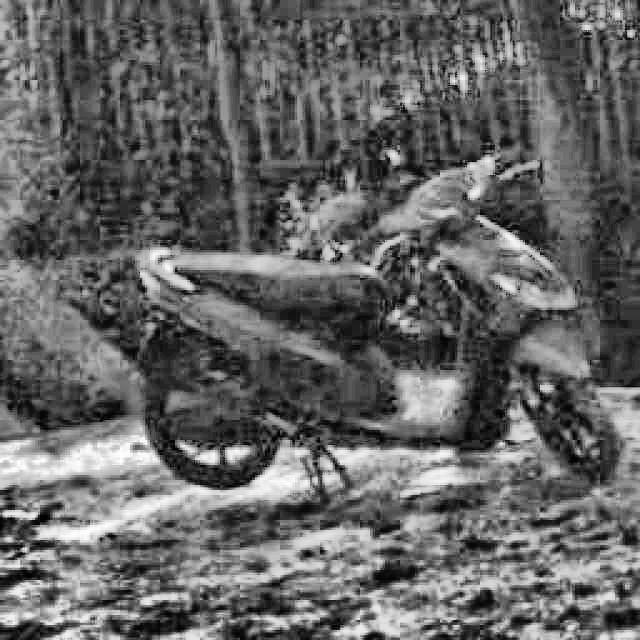motorcycle: (112, 145, 612, 504)
